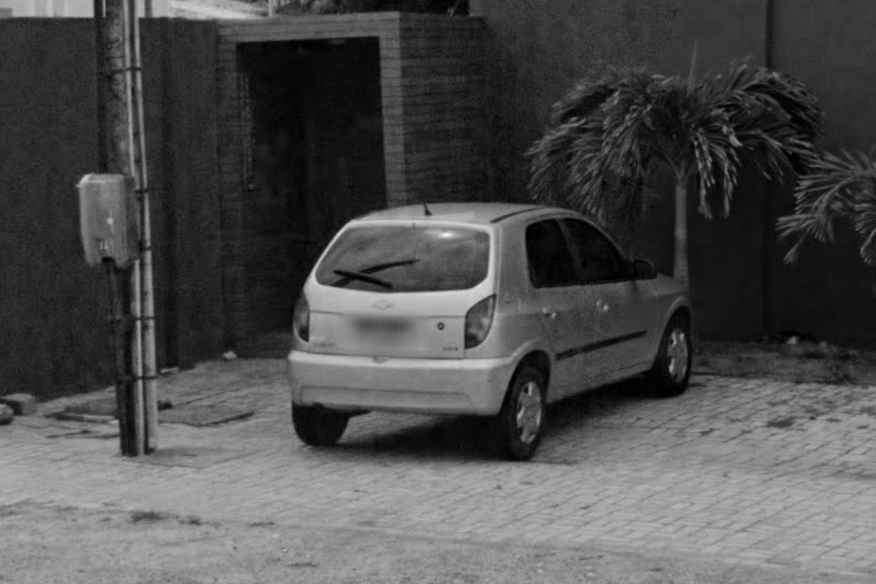car: (286, 188, 693, 467)
